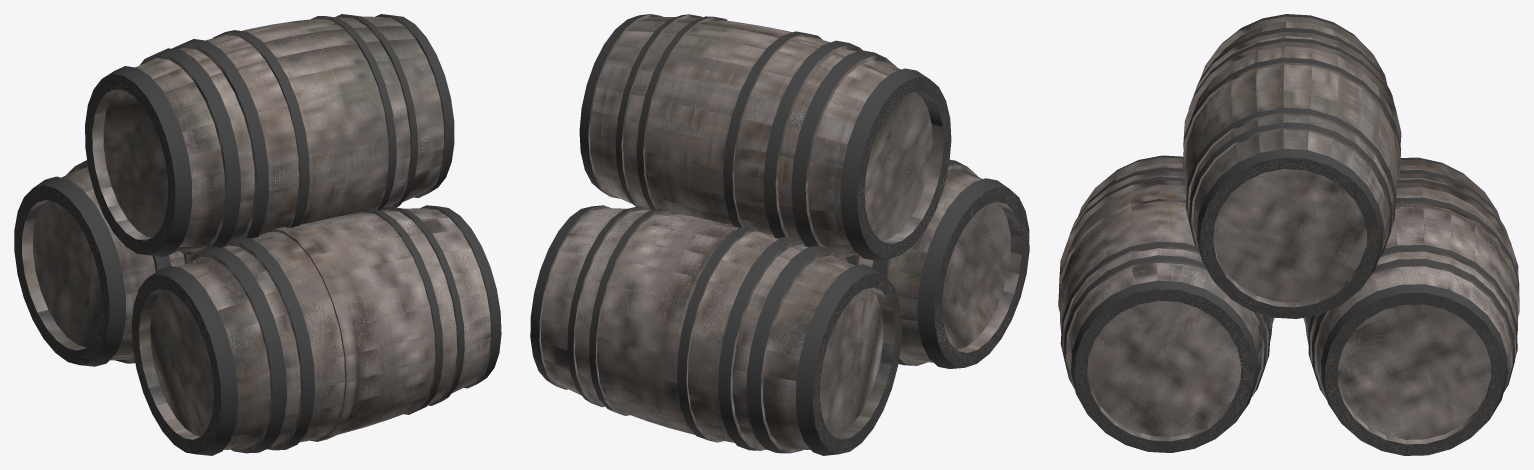
Rendered from barrelstack.fbx.
The picture shows the model from 3 angles, left to right: view 1: azimuth 30°, elevation 25°; view 2: azimuth 150°, elevation 25°; view 3: azimuth 270°, elevation 25°; orthographic projection.
Visible parts, largest first — view 1: polySurface775; view 2: polySurface775; view 3: polySurface775.
Boxes of the visible parts, x1=… form: polySurface775: x1=14, y1=14, x2=501, y2=455; polySurface775: x1=530, y1=14, x2=1029, y2=455; polySurface775: x1=1058, y1=14, x2=1519, y2=455.
Size of the model in its own units: 17.92 by 19.88 by 24.1.
Materials: 1 (1 with a texture image).
